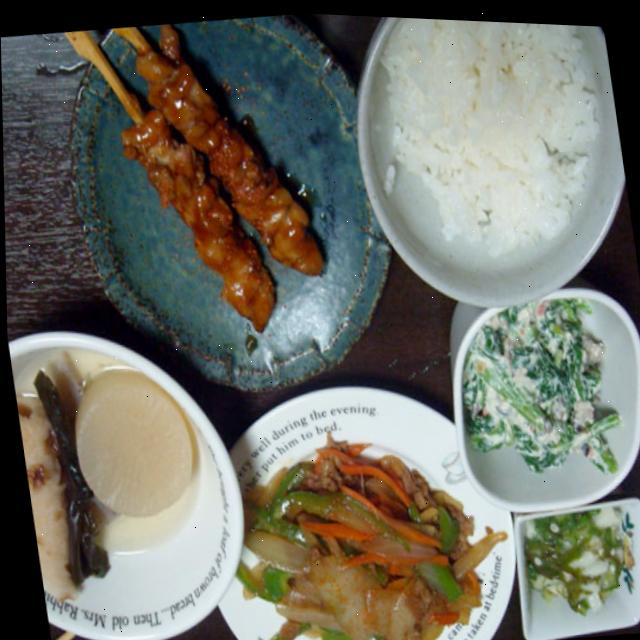蔬菜料理: (228, 409, 505, 640)
